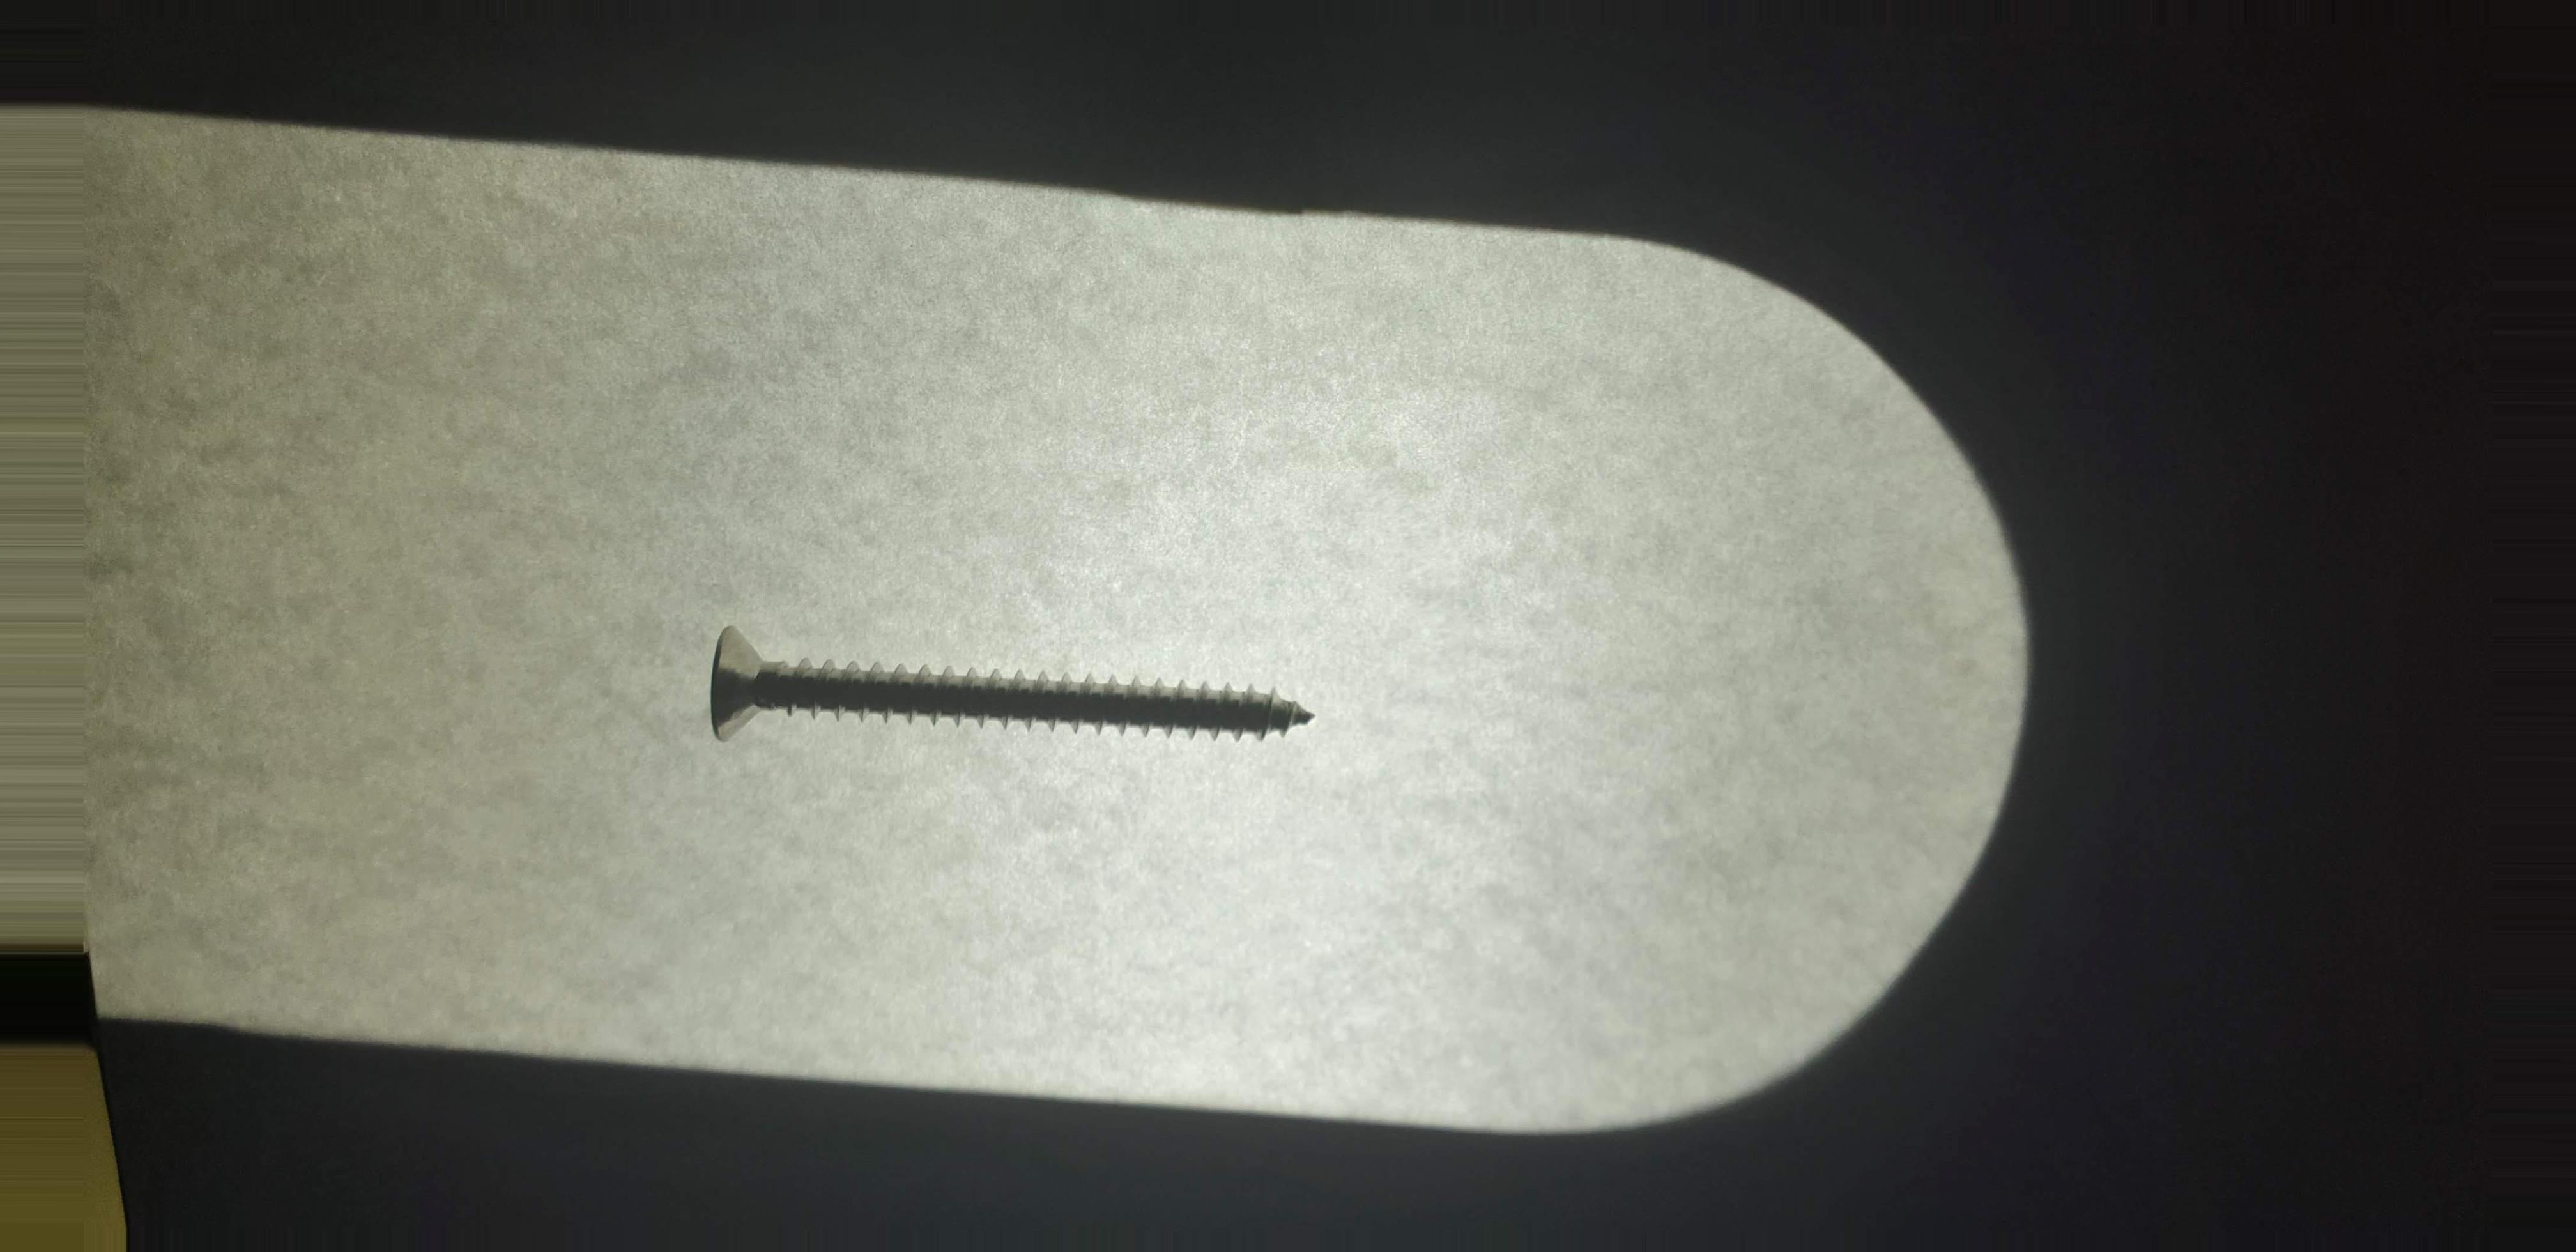S001: (690, 596, 1327, 772)
